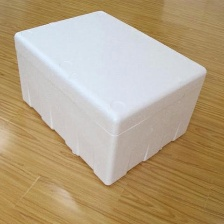foam_box: (9, 5, 211, 189)
